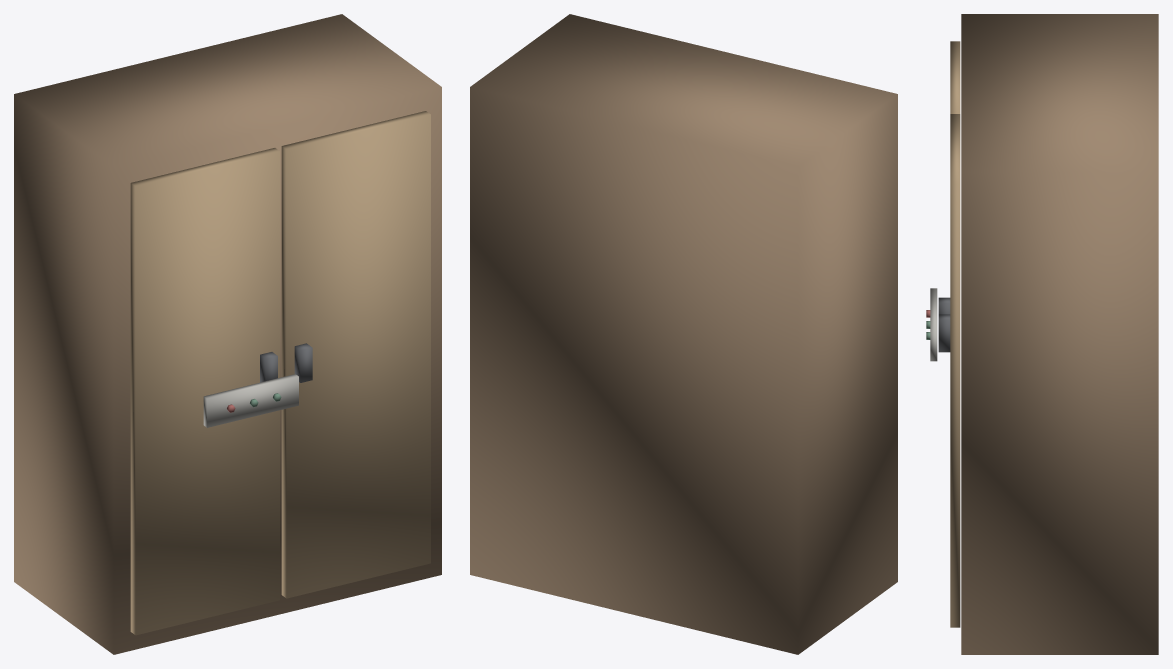
File: kitchen_base_cabinet.glb
The picture shows the model from 3 angles, left to right: view 1: azimuth 30°, elevation 25°; view 2: azimuth 150°, elevation 25°; view 3: azimuth 270°, elevation 25°; orthographic projection.
Visible parts, largest first — view 1: world; view 2: world; view 3: world.
Boxes of the visible parts, box(x1,y1,x2,y2) form: world: box(14, 14, 441, 654); world: box(470, 14, 897, 654); world: box(926, 14, 1158, 654).
Bounding box in the file's own units: 0.95 × 1.35 × 0.5885.
